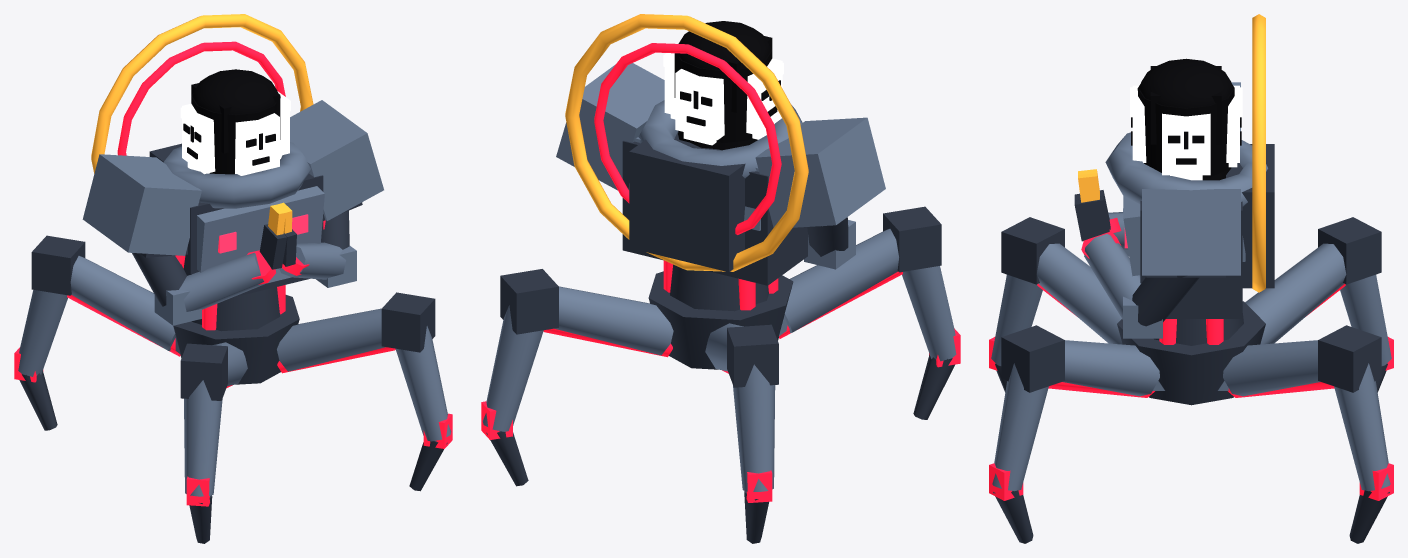
The model's file is boss_warlord.glb.
3 renders of one model, left to right at view 1: azimuth 30°, elevation 25°; view 2: azimuth 150°, elevation 25°; view 3: azimuth 270°, elevation 25°, orthographic. The views are drawn at different scales.
Visible parts, largest first — view 1: pauldron_outer_-1, pauldron_outer_1, chest_plate_upper, dharma_halo_outer, collar_cowling, leg_femur_3, leg_femur_0, pelvis_core, leg_tibia_1, leg_tibia_0, cranium_black_dome, forearm_-1 (+22 smaller); view 2: back_reactor_pack, dharma_halo_outer, pauldron_outer_-1, pauldron_outer_1, leg_femur_1, leg_femur_2, pelvis_core, dharma_halo_inner, torso_chassis, leg_tibia_3, leg_tibia_2, collar_cowling (+17 smaller); view 3: pauldron_outer_1, pelvis_core, leg_femur_3, leg_femur_1, leg_femur_0, leg_femur_2, dharma_halo_outer, leg_tibia_0, leg_tibia_2, collar_cowling, cranium_black_dome, leg_knee_0 (+25 smaller).
Boxes of the visible parts, x1,y1,x2,y2 form: pauldron_outer_-1: (82,154,201,255); pauldron_outer_1: (290,100,383,220); chest_plate_upper: (197,186,324,272); dharma_halo_outer: (91,14,313,173); collar_cowling: (163,142,310,208); leg_femur_3: (70,256,175,350); leg_femur_0: (277,308,385,371); pelvis_core: (173,295,299,384); leg_tibia_1: (184,380,222,496); leg_tibia_0: (395,326,451,441); cranium_black_dome: (192,69,277,118); forearm_-1: (179,252,266,311); back_reactor_pack: (629,138,745,272); dharma_halo_outer: (565,14,808,271); pauldron_outer_-1: (755,117,885,227); pauldron_outer_1: (556,63,664,190); leg_femur_1: (784,229,898,332); leg_femur_2: (554,286,673,355); pelvis_core: (648,271,793,369); dharma_halo_inner: (594,43,781,234); torso_chassis: (622,131,807,285); leg_tibia_3: (733,364,775,491); leg_tibia_2: (482,305,543,431); collar_cowling: (638,100,802,178); pauldron_outer_1: (1142,189,1240,275); pelvis_core: (1117,301,1265,405); leg_femur_3: (1245,243,1346,344); leg_femur_1: (1036,243,1122,344); leg_femur_0: (1062,340,1159,396); leg_femur_2: (1223,340,1320,396); dharma_halo_outer: (1252,14,1265,292); leg_tibia_0: (992,363,1048,491); leg_tibia_2: (1334,363,1390,491); collar_cowling: (1105,132,1267,206); cranium_black_dome: (1138,58,1233,111); leg_knee_0: (1001,325,1064,392).
Size of the model in its own units: 3.85 by 5.83 by 4.67.
